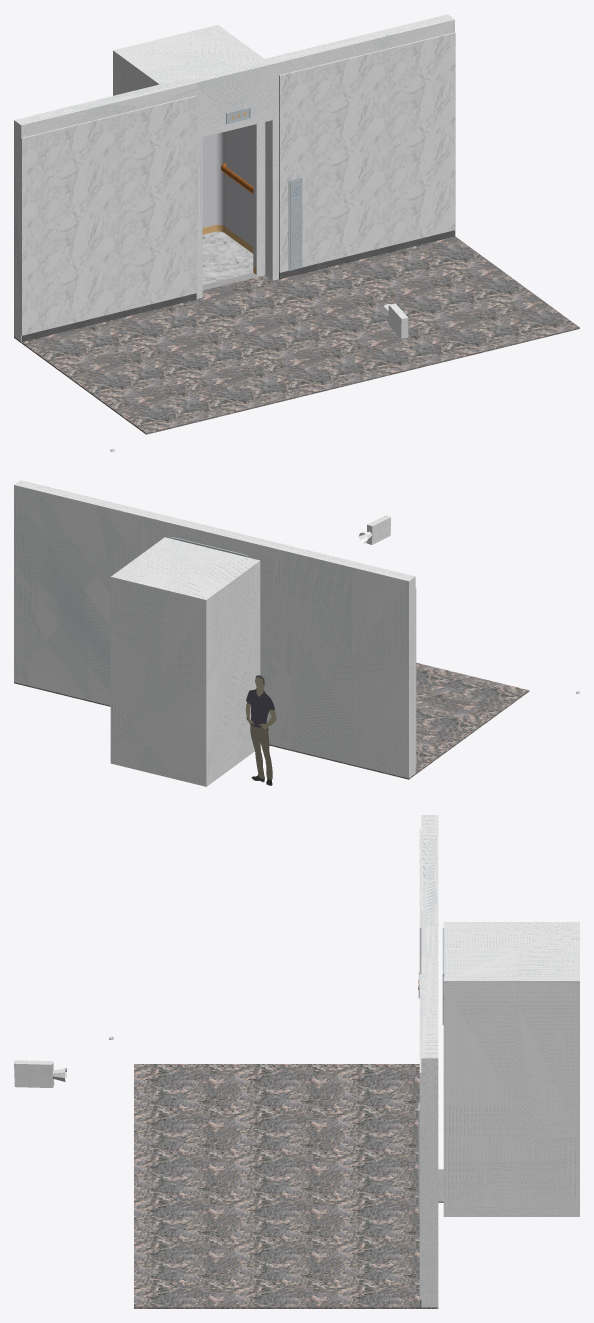
3 views of the same model, one above another, from view 1: azimuth 30°, elevation 25°; view 2: azimuth 150°, elevation 25°; view 3: azimuth 270°, elevation 25° (orthographic). The views are drawn at different scales.
Parts seen in each view (by area): view 1: group_14, group_12, group_11, group_13, group_18, group_23, group_36, group_42, group_10, group_10.001, group_32, group_46.003; view 2: group_13, group_36, group_14, group_23, instance_16.013, instance_16.001, Camera_1; view 3: group_14, group_36, group_13, group_23, Camera_1, group_11.
Part boxes in pixels (x1,y1,x2,y2): group_14: (14,236,579,434); group_12: (21,95,196,335); group_11: (279,32,455,272); group_13: (14,14,454,341); group_18: (202,124,256,267); group_23: (113,25,264,84); group_36: (113,52,265,275); group_42: (202,231,253,284); group_10: (279,230,455,279); group_10.001: (22,293,196,341); group_32: (202,135,215,227); group_46.003: (290,179,301,269); group_13: (14,480,415,778); group_36: (110,563,260,784); group_14: (14,662,529,779); group_23: (110,537,260,601); instance_16.013: (250,724,272,779); instance_16.001: (246,688,274,727); Camera_1: (367,515,390,544); group_14: (134,1064,438,1308); group_36: (443,983,579,1214); group_13: (421,815,438,1307); group_23: (444,922,579,983); Camera_1: (14,1060,54,1088); group_11: (419,974,421,1299).
Bounding box in the file's own units: 753 × 330 × 670.
22 materials, 12 textured.
